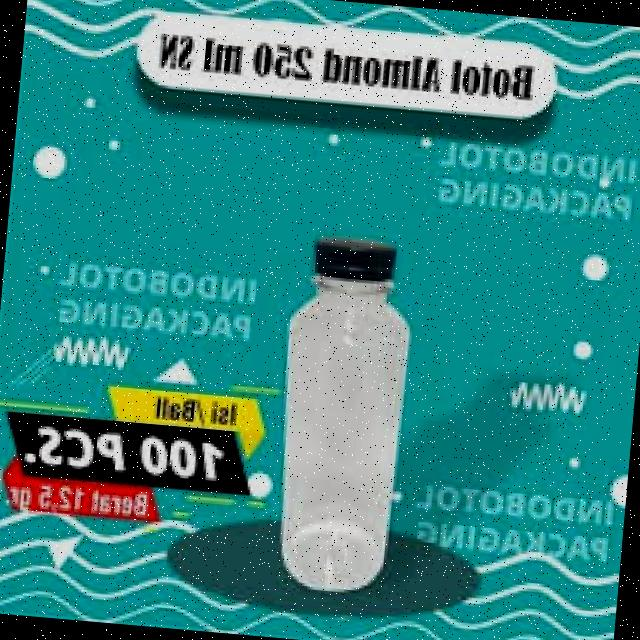bottle: (255, 230, 421, 604)
